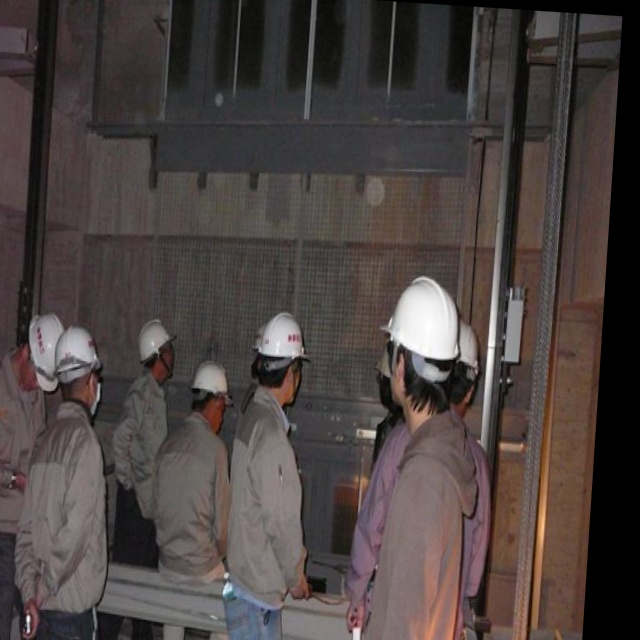Con_Casco: (385, 277, 463, 404), (256, 310, 309, 401)
